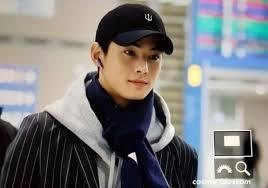earphone: (94, 57, 107, 69)
